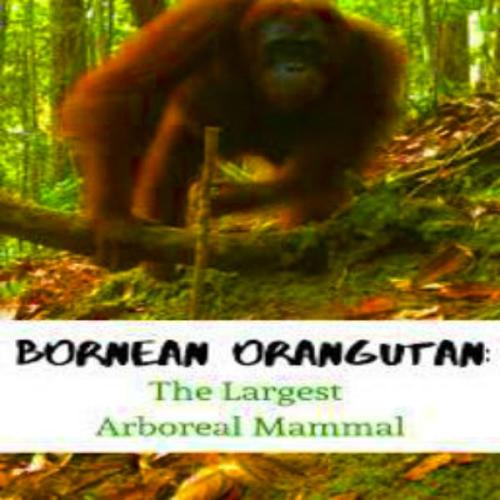orangutan-endangered: (81, 3, 393, 220)
